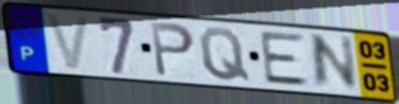7: (96, 14, 137, 77)
E: (257, 31, 313, 88)
N: (308, 32, 361, 91)
P: (148, 20, 198, 79)
Q: (196, 25, 253, 84)
V: (44, 12, 93, 72)
